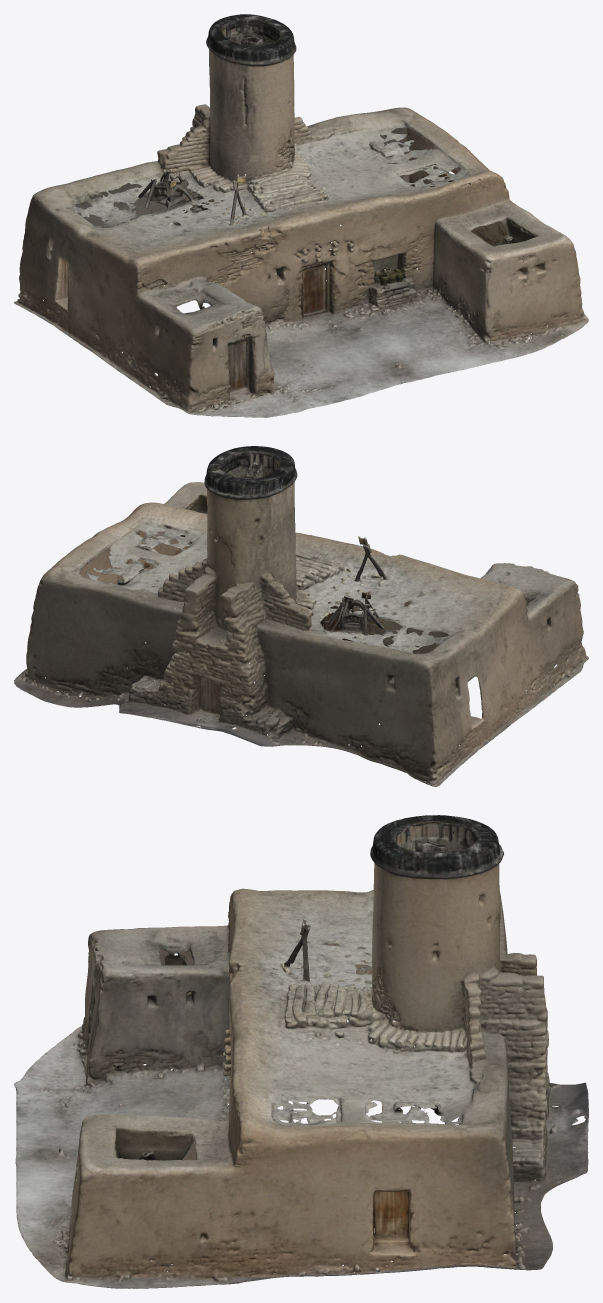
File: building.glb
3 renders of one model, top to bottom at view 1: azimuth 30°, elevation 25°; view 2: azimuth 150°, elevation 25°; view 3: azimuth 270°, elevation 25°, orthographic. The views are drawn at different scales.
Parts seen in each view (by area): view 1: world; view 2: world; view 3: world.
Part boxes in pixels (bbox=[...]): world: bbox=[14, 14, 588, 417]; world: bbox=[14, 446, 588, 786]; world: bbox=[14, 815, 588, 1288].
Bounding box in the file's own units: 0.9949 × 0.5543 × 0.89.
1 material, 1 textured.
